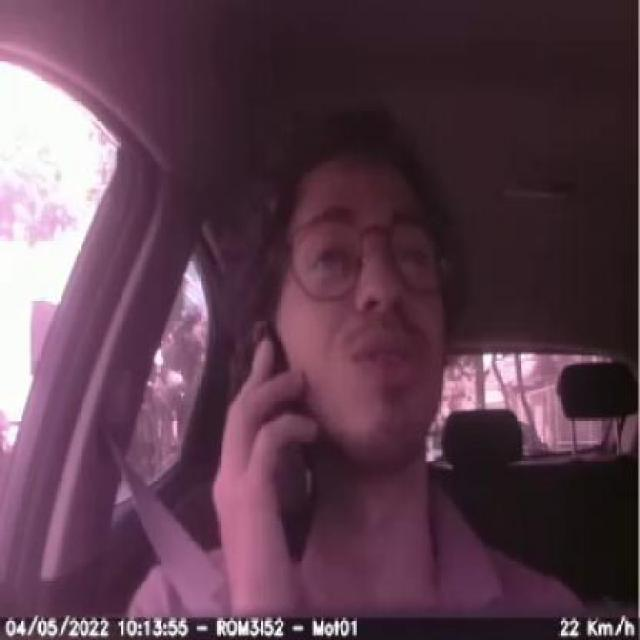using_phone: (164, 231, 348, 568)
